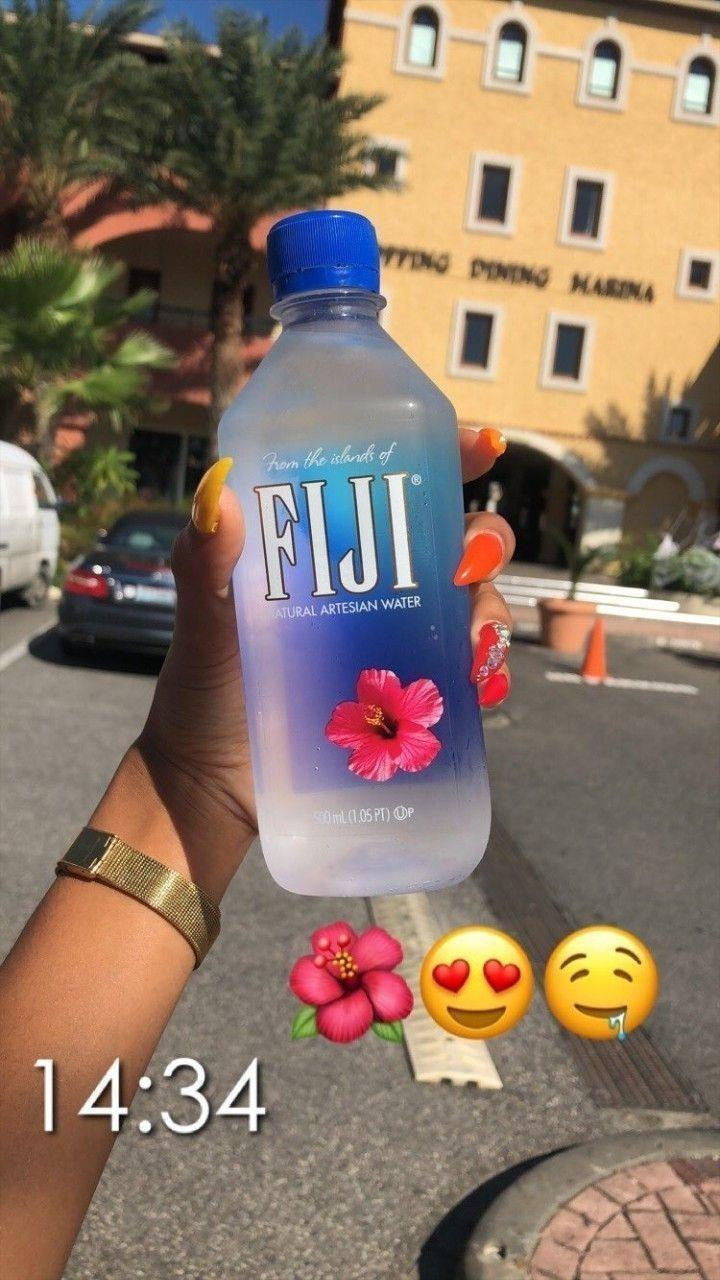bottle-plastic: (219, 207, 494, 900)
